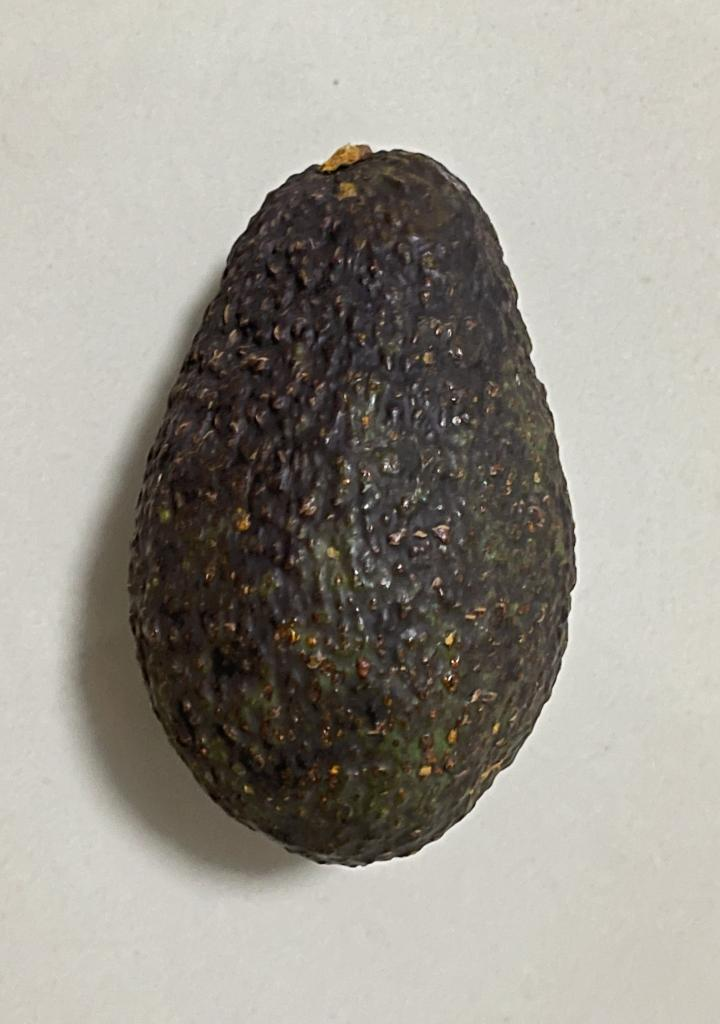Level2: (119, 127, 585, 876)
